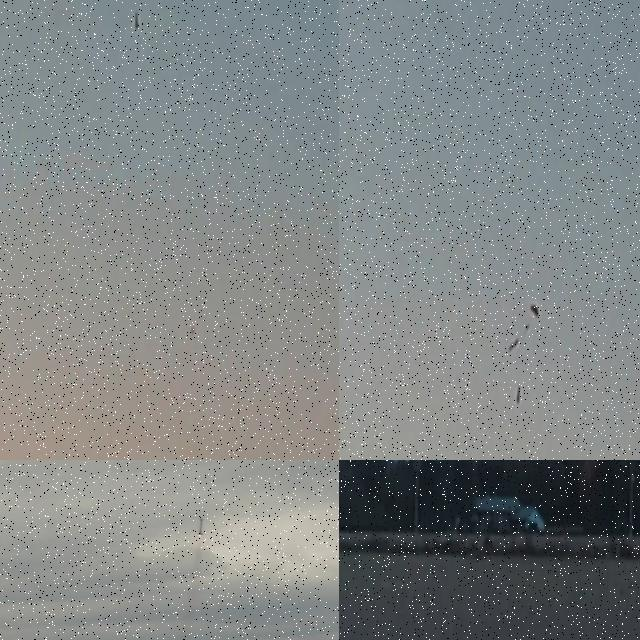Rocket: (198, 518, 204, 535), (516, 387, 521, 404), (135, 12, 138, 28)
